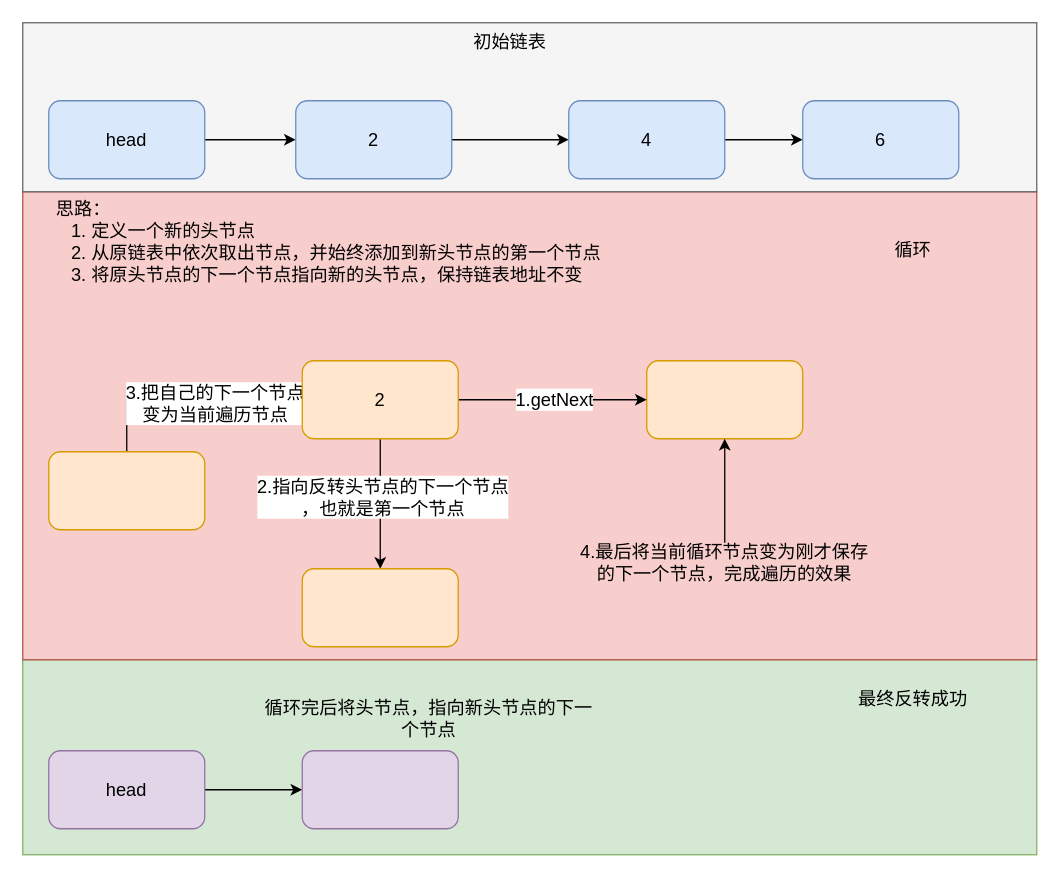
Some shapes in this 1060 by 877 pixel diagram are drawn without their labels. The shapes that lost their labels are listed below. From the top down, each one's centre as x and y in pixels, then its label:
(724,399): next保存下一个节点的信息
(126,490): reverseHead
(379,789): reverse.getNext
